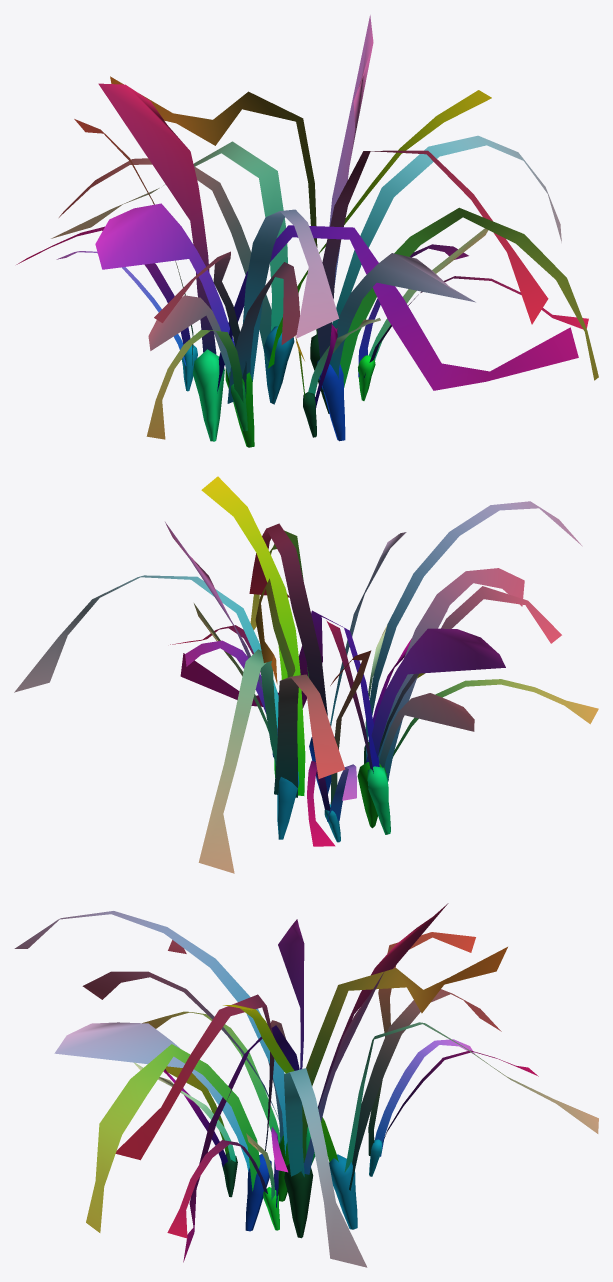
File: Ribbon_Grass_tbdpec3r_Low_tbdpec3r_VarF_LOD0.fbx
3 renders of one model, top to bottom at view 1: azimuth 30°, elevation 25°; view 2: azimuth 150°, elevation 25°; view 3: azimuth 270°, elevation 25°, orthographic. The views are drawn at different scales.
Parts seen in each view (by area): view 1: _b334_VarF_LOD1; view 2: _b334_VarF_LOD1; view 3: _b334_VarF_LOD1.
Part boxes in pixels (x1,y1,x2,y2): _b334_VarF_LOD1: [16, 15, 598, 447]; _b334_VarF_LOD1: [14, 476, 598, 873]; _b334_VarF_LOD1: [14, 903, 598, 1267].
Size of the model in its own units: 31.46 by 19.56 by 33.57.
